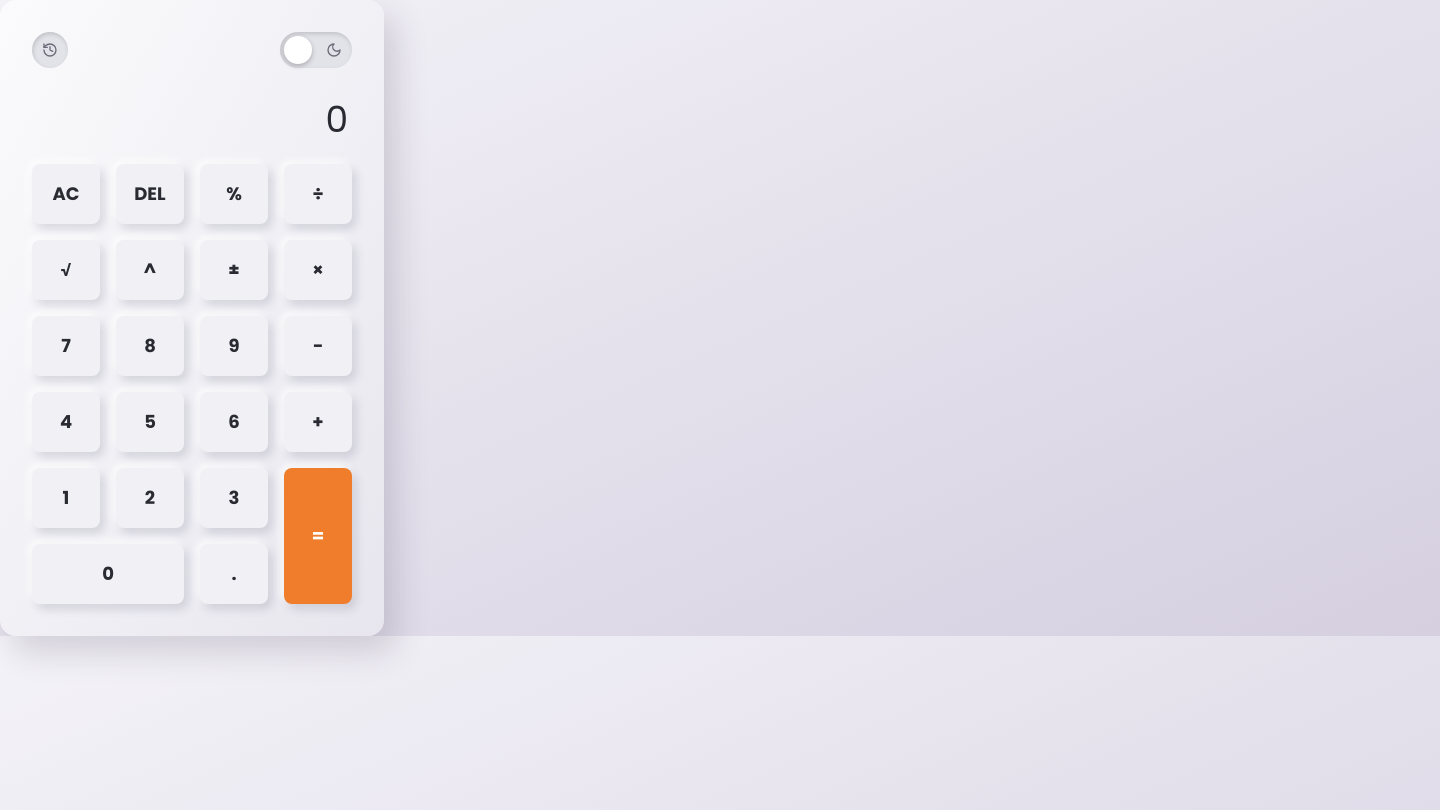
Test: Calculator › ignores keys while waiting for the backend
Click the button "8" at (150, 346), box [116,316,184,376]
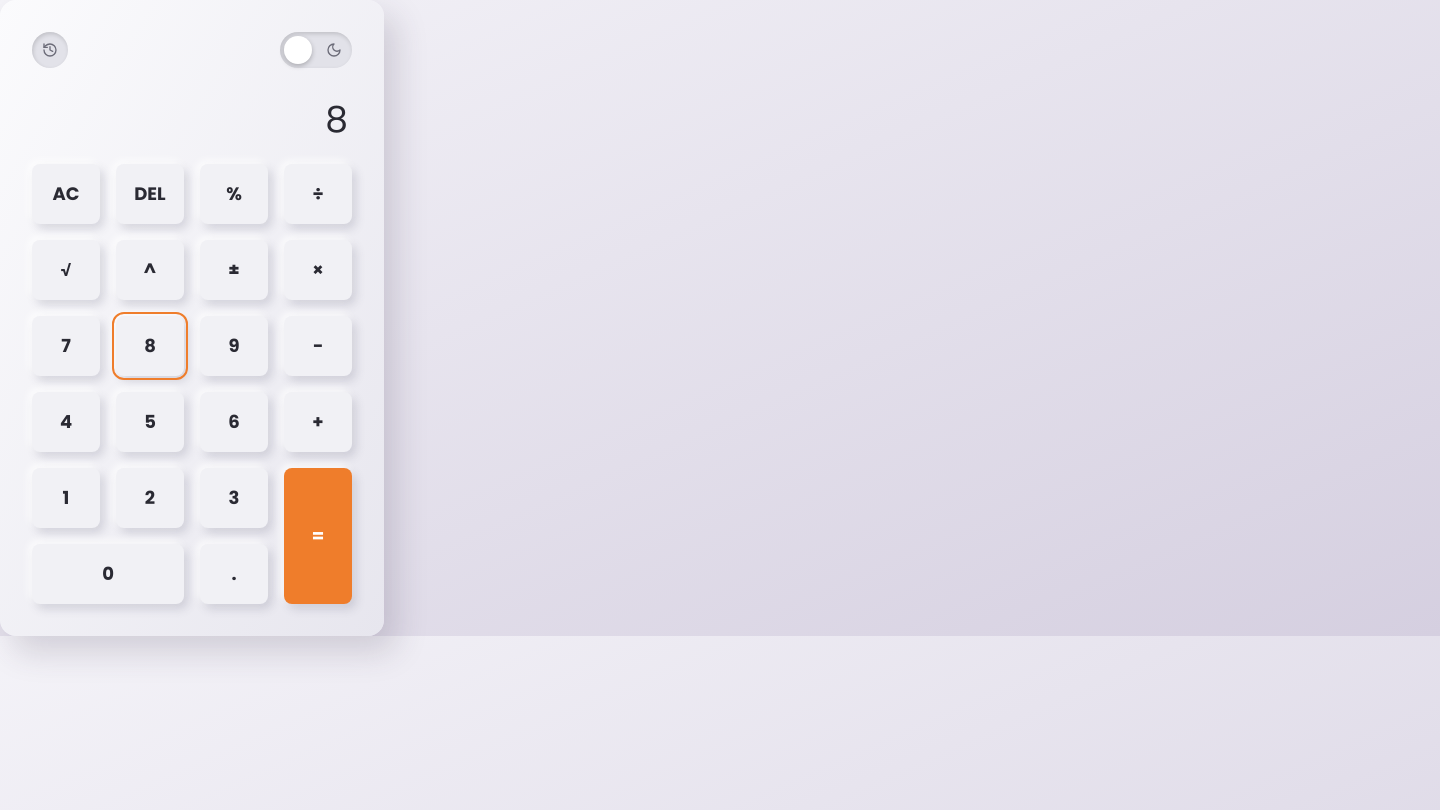
Click the button named "Divide" at (318, 194), box [284,164,352,224]
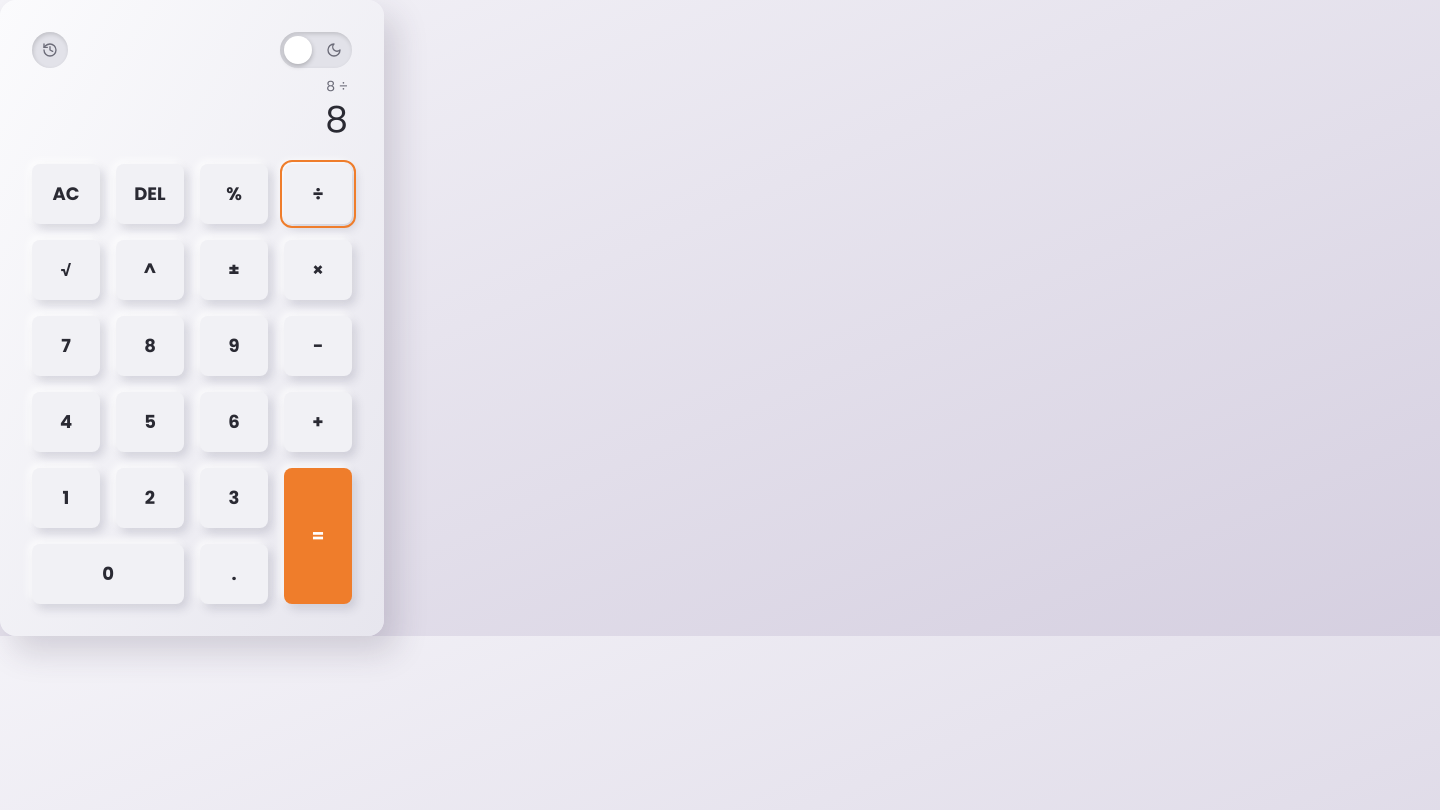
Click the button "2" at (150, 498), box [116,468,184,528]
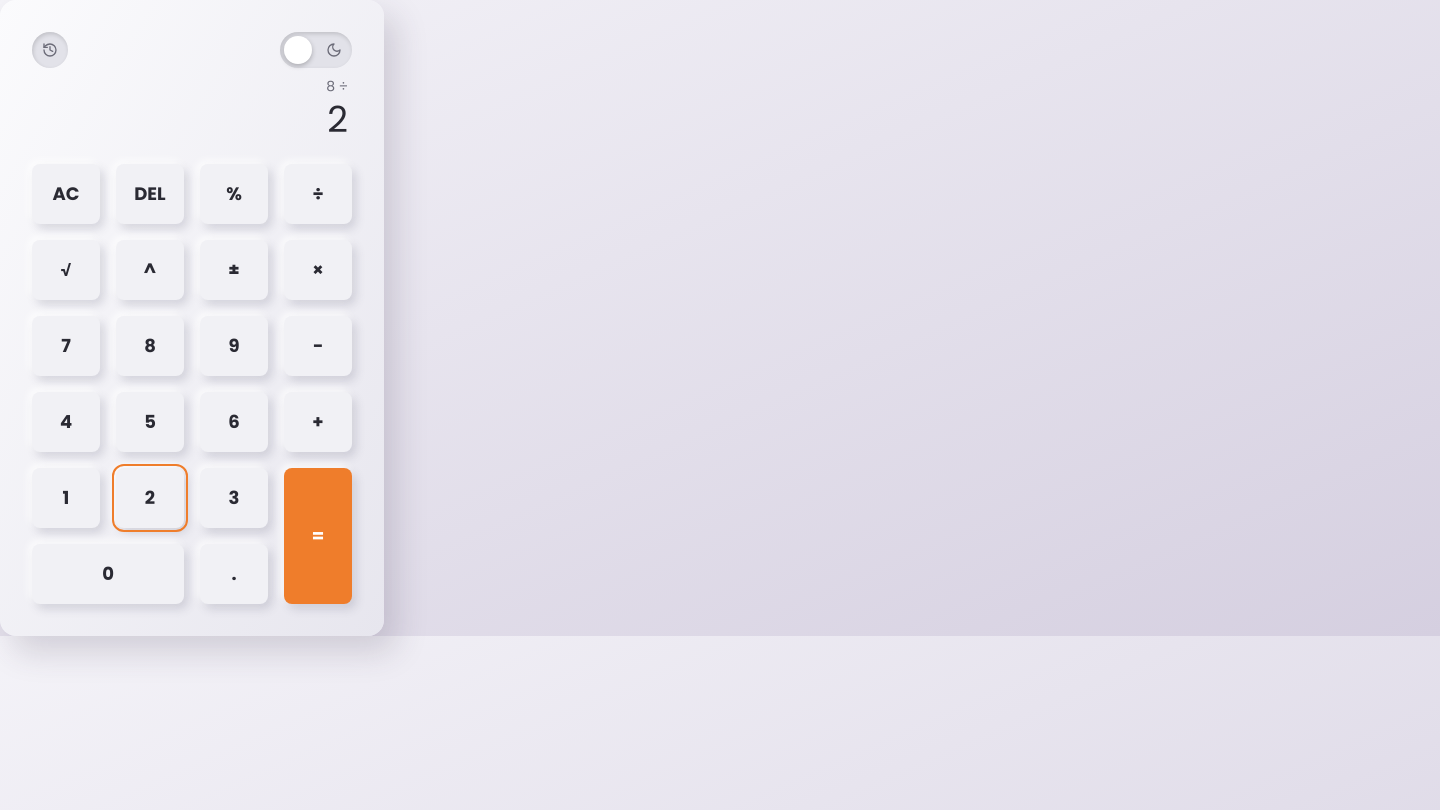
Click the button named "Equals" at (318, 536), box [284,468,352,604]
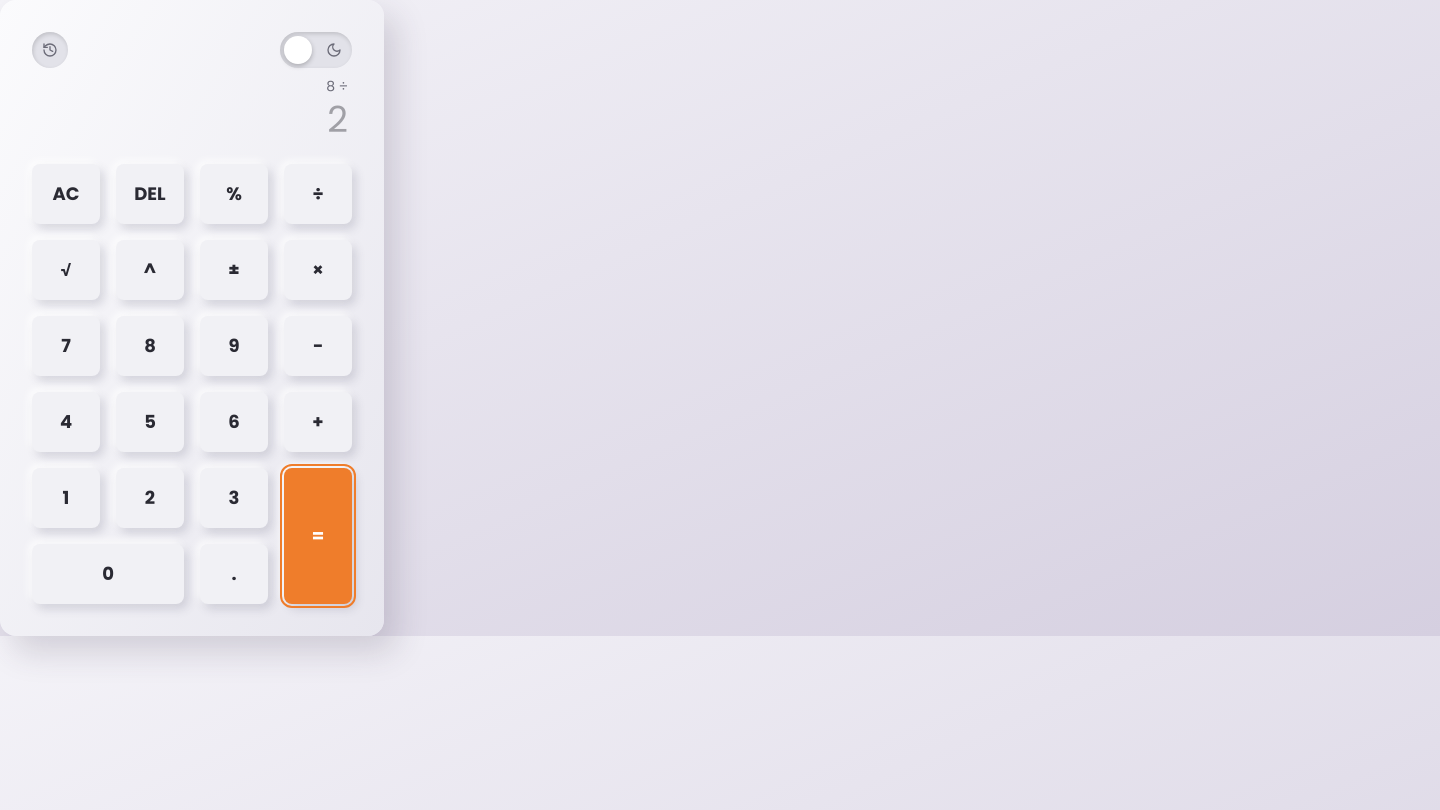
Click the button "5" at (150, 422), box [116,392,184,452]
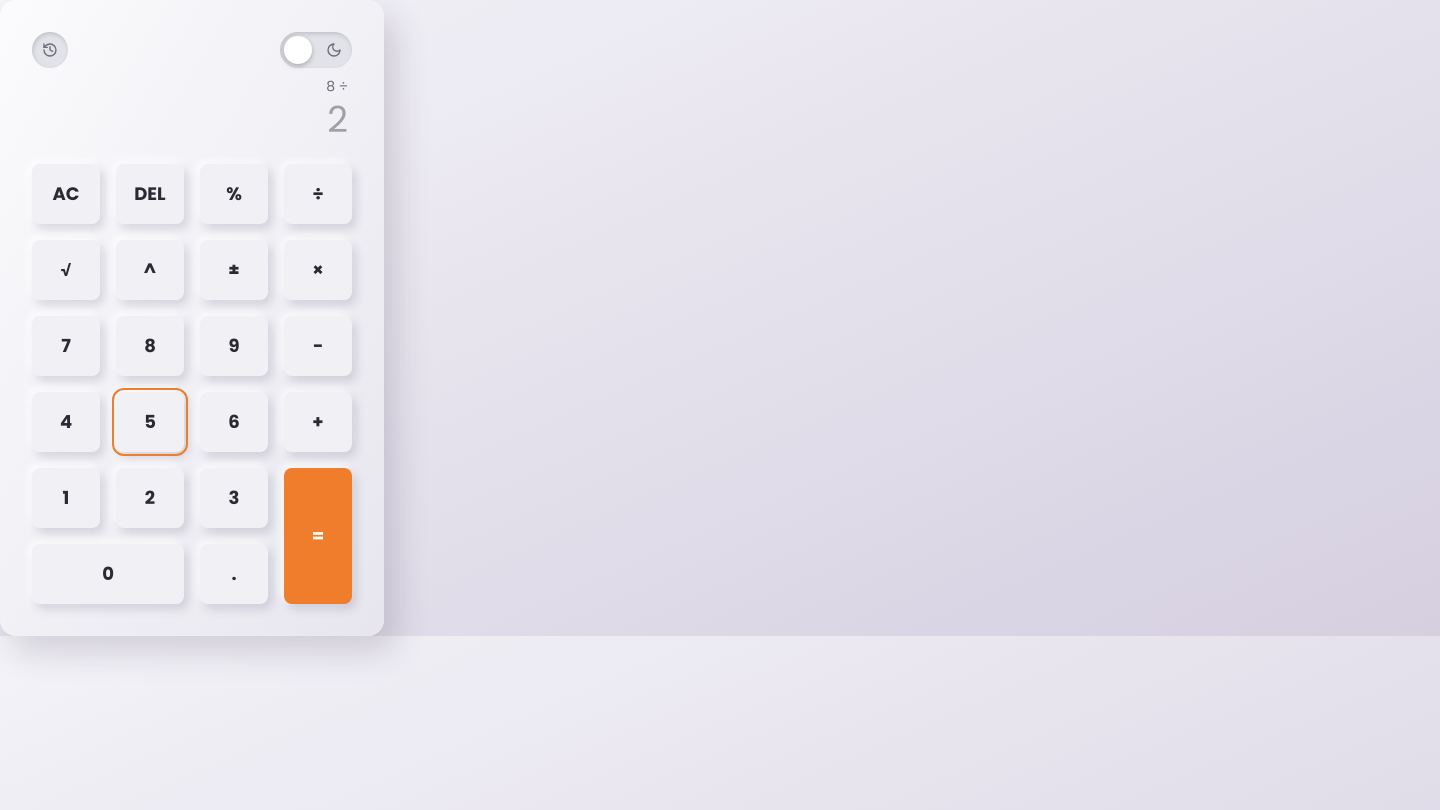
Click the button named "Equals" at (318, 536), box [284,468,352,604]
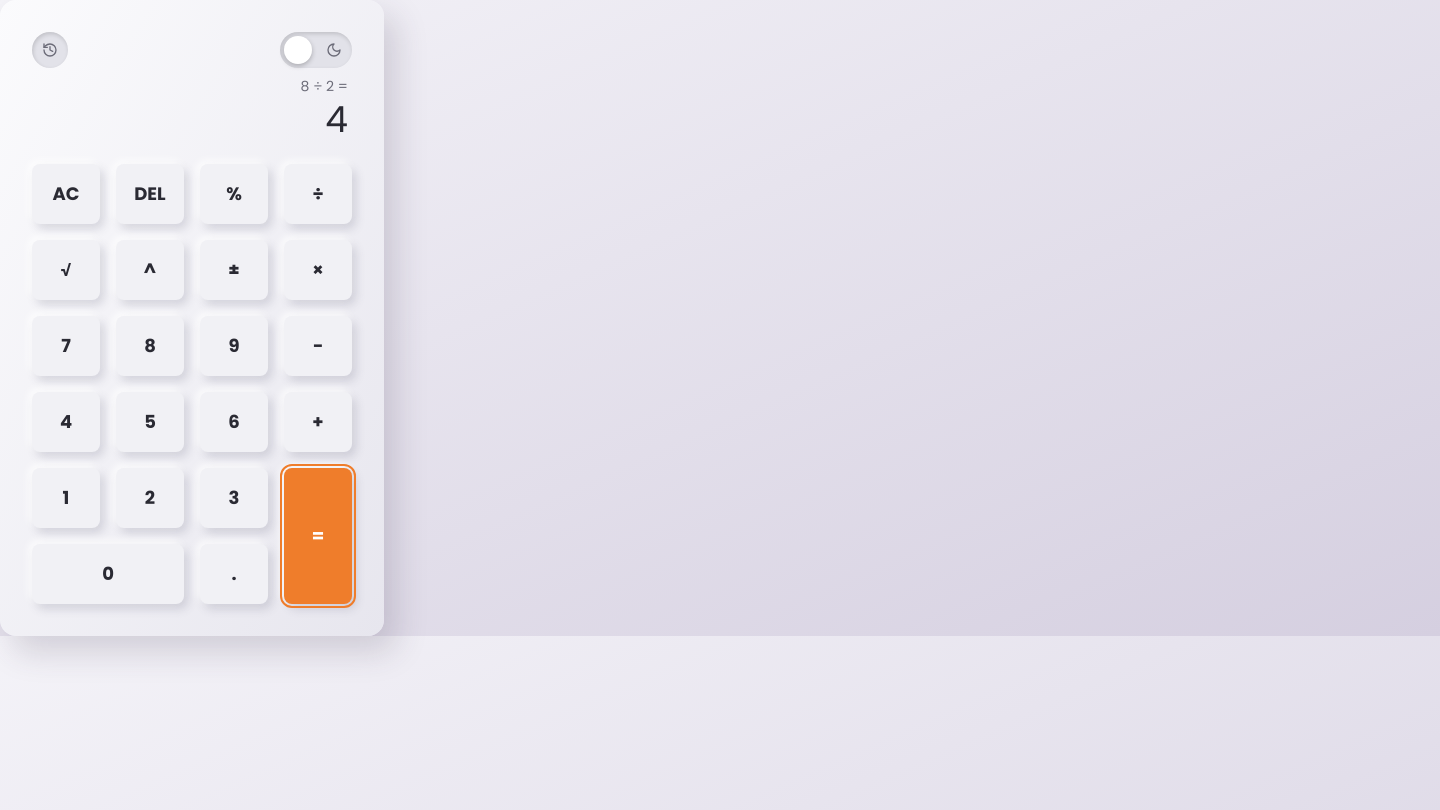
Now the text "4" is shown, box [325,100,348,140]
